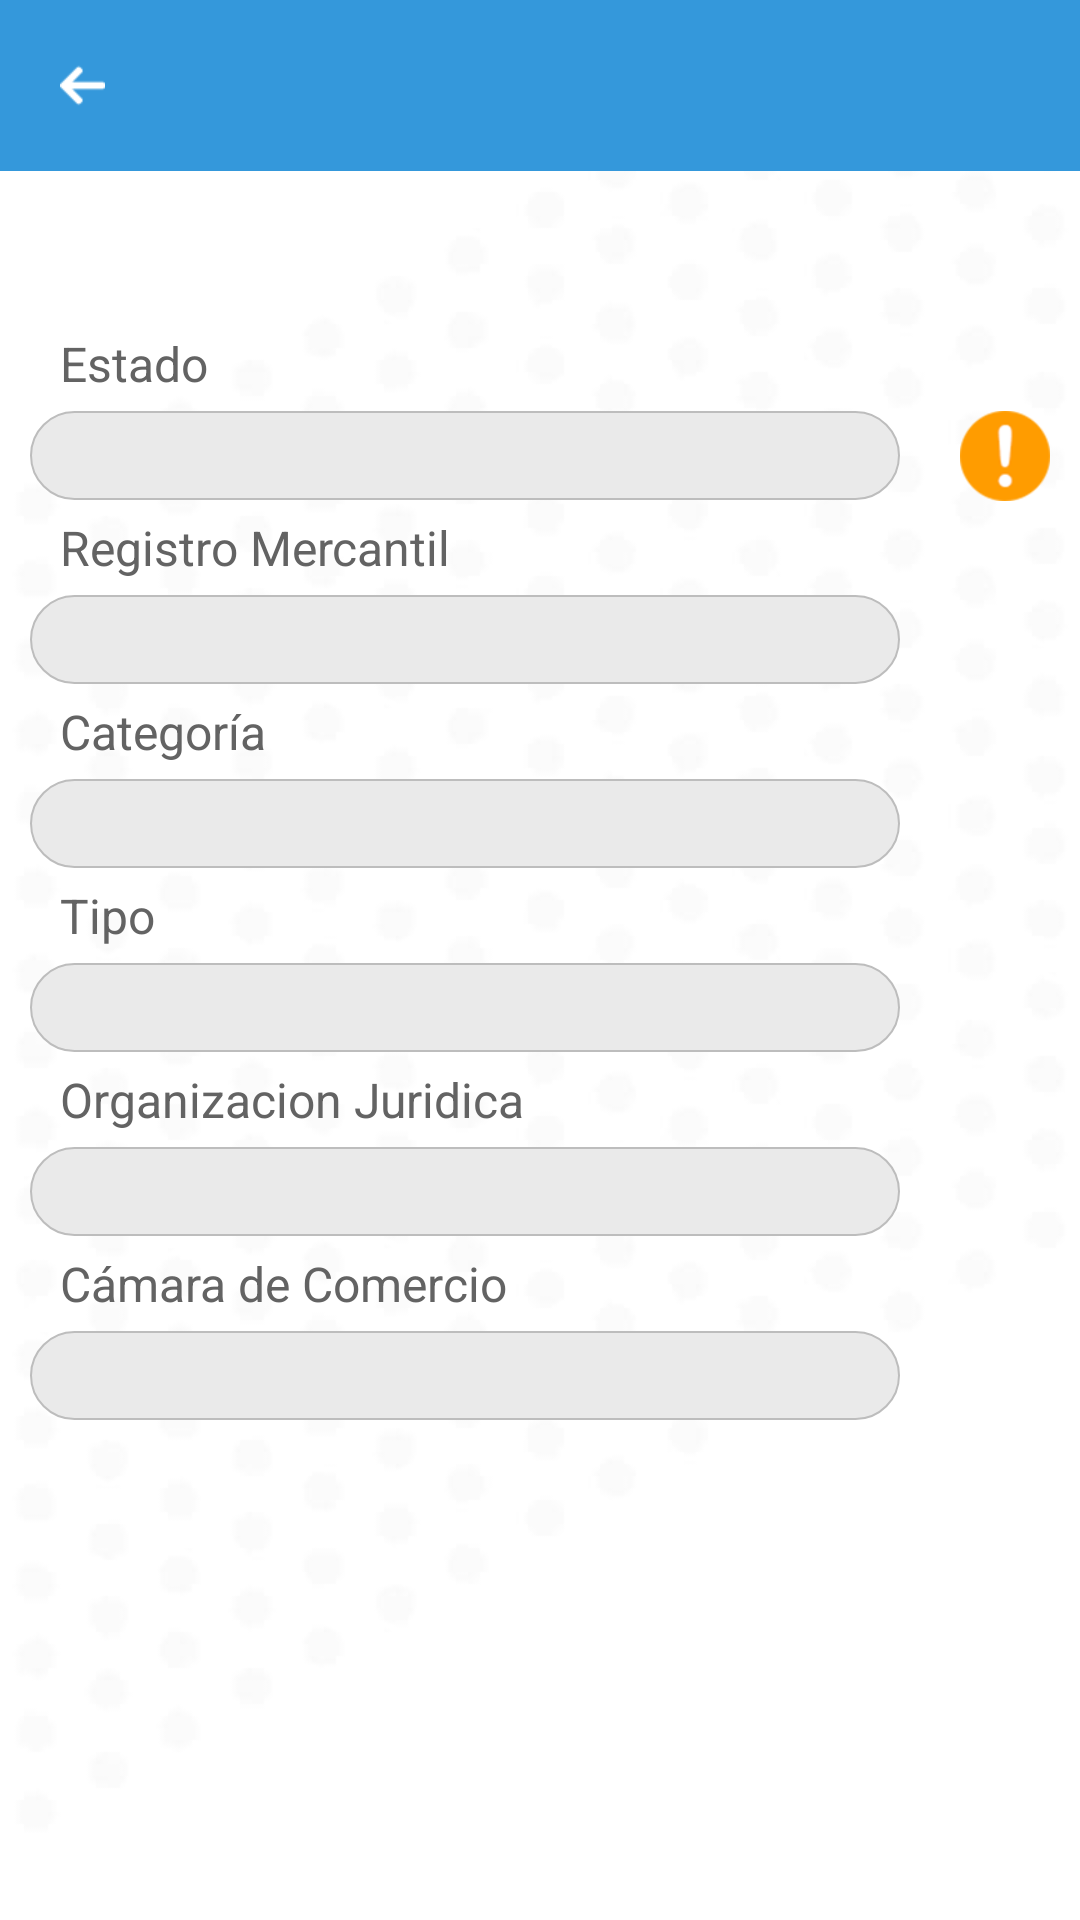

Locate icon controls on the screen. Image size 1080 × 1920, boxes as region(x1, y1, x2, y2).
left arrow: region(60, 66, 105, 105)
